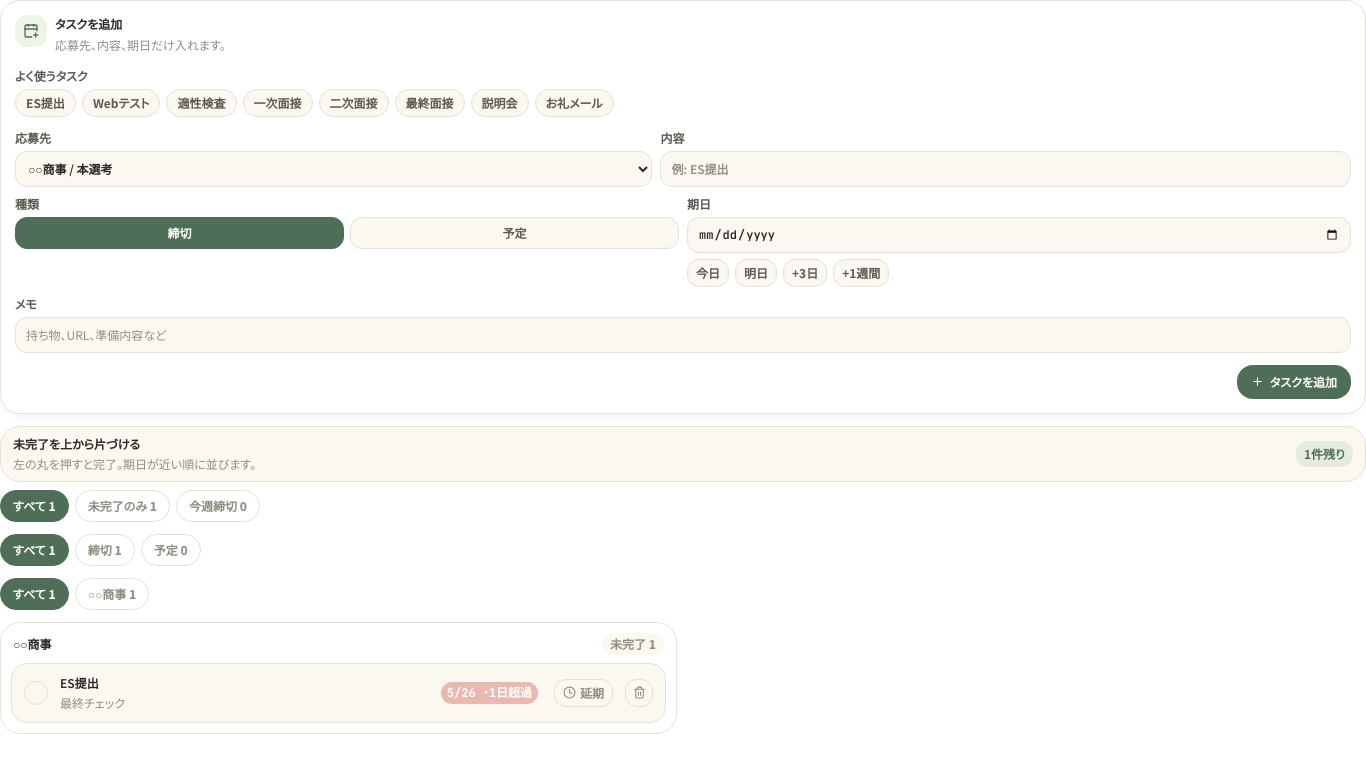
Test case: TaskListView › 延期が失敗したら楽観更新を巻き戻し、エラーを表示する
Click the button with aria-label "タスク「ES提出」の期日を延期": (584, 692) [554, 678, 613, 706]
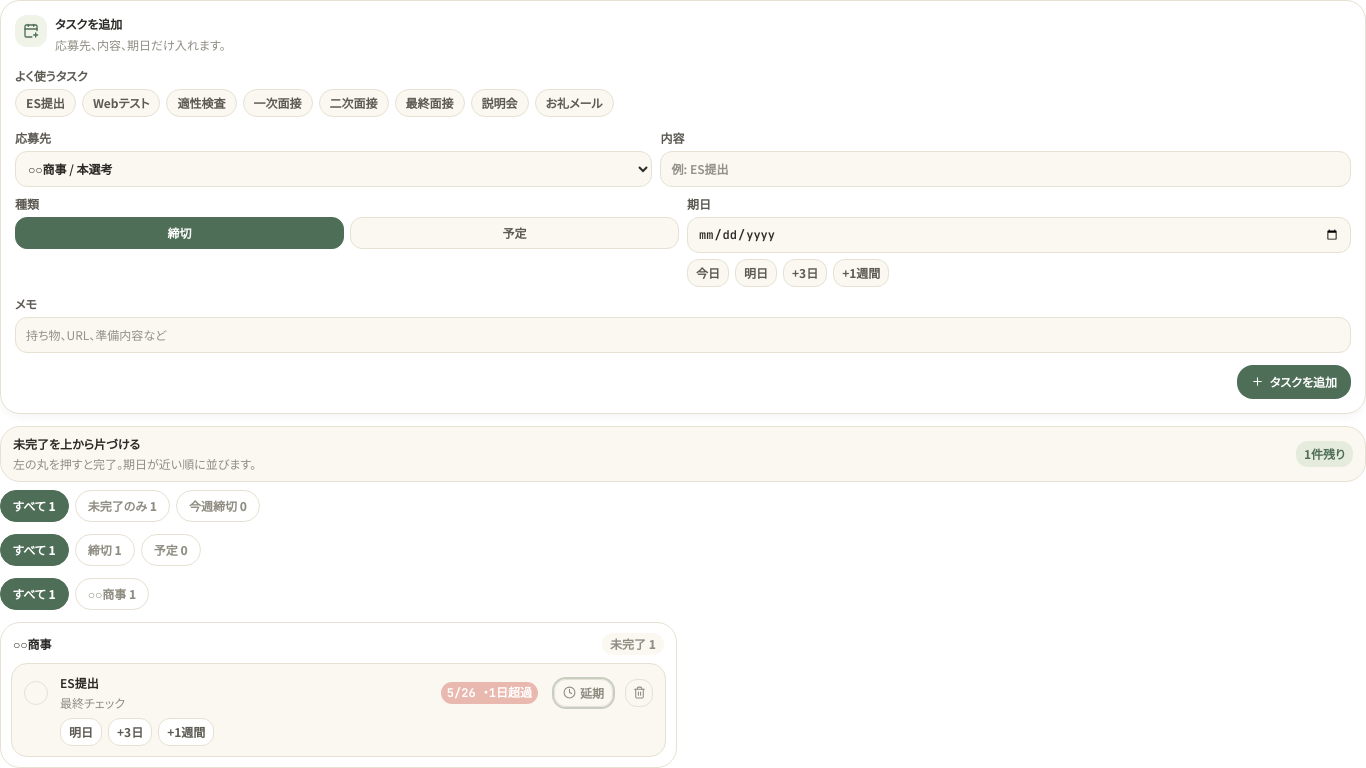
Click the button "明日" below "最終チェック": (81, 732) [60, 718, 102, 746]
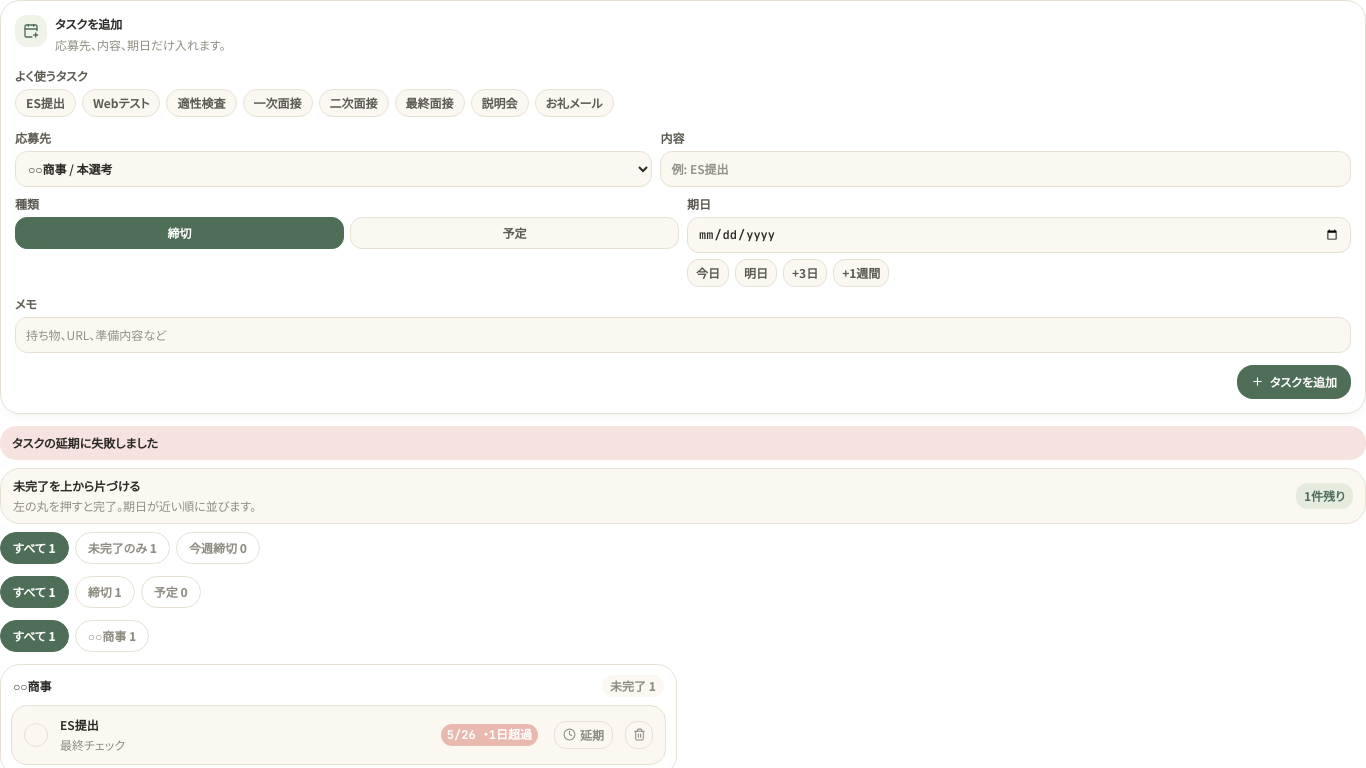
Expected: the text "5/26 ・1日超過" is shown, [441, 724, 538, 746]
Result: the message "タスクの延期に失敗しました" is shown at [0, 426, 1365, 460]
